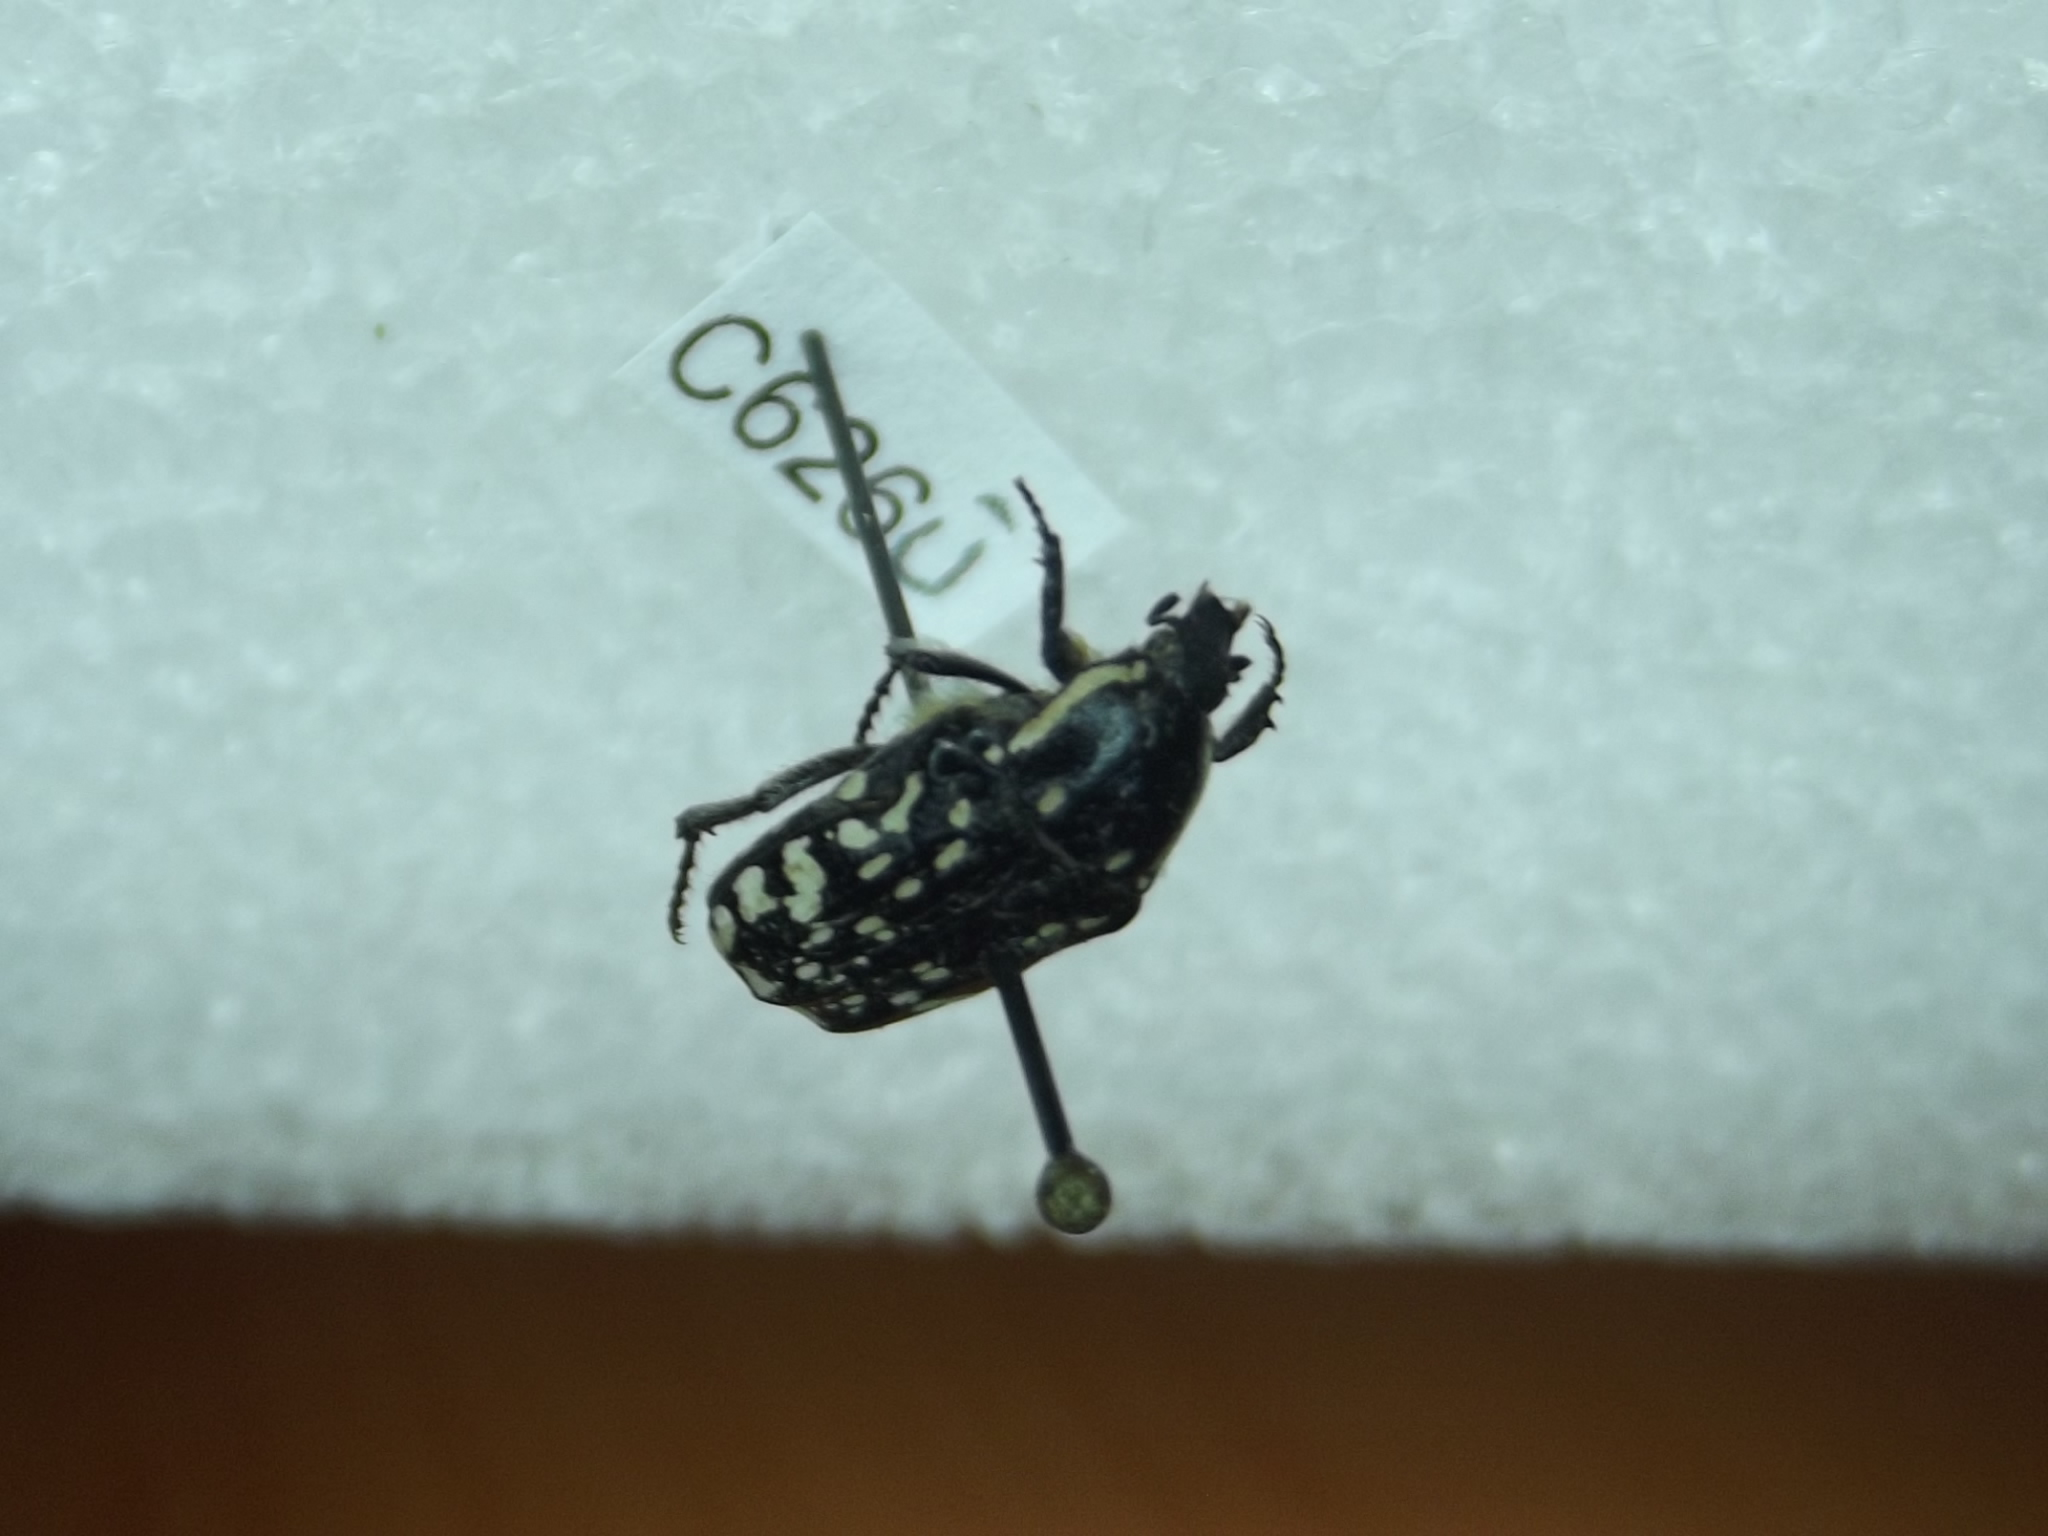Oxythyrea_funesta: (648, 458, 1293, 1046)
